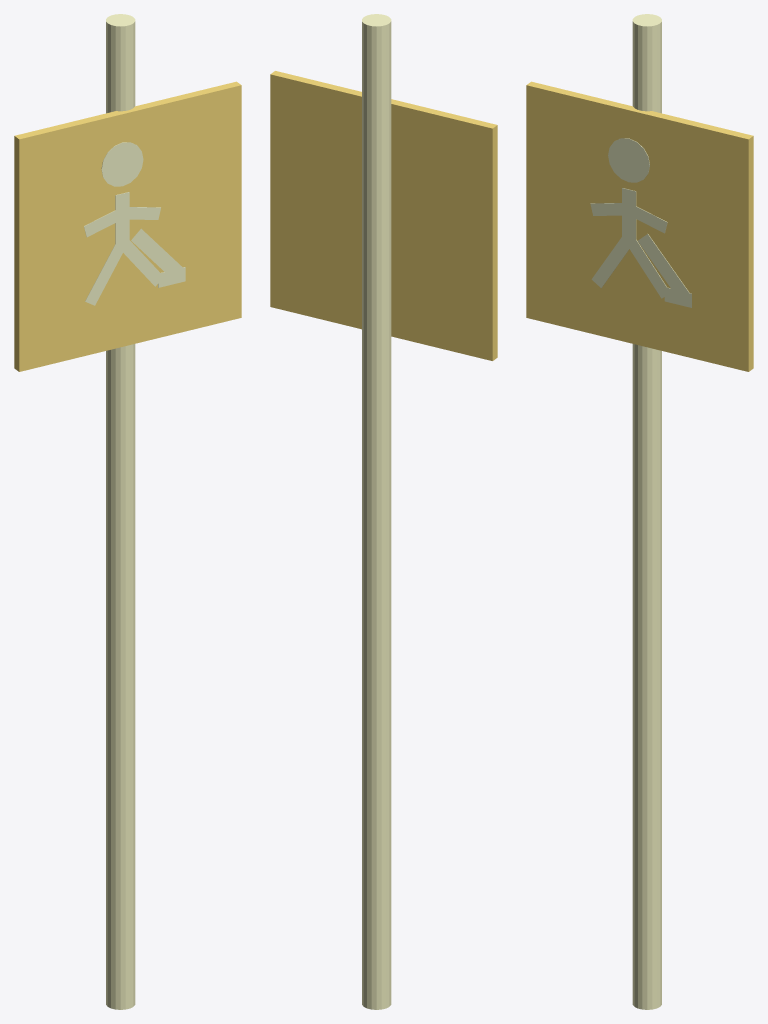
The model's file is sign_construction_warning.glb.
3 renders of one model, left to right at view 1: azimuth 30°, elevation 25°; view 2: azimuth 150°, elevation 25°; view 3: azimuth 330°, elevation 25°, orthographic.
Parts seen in each view (by area): view 1: plate_base_00, pole, layer_1_00, layer_1_06, layer_1_04, layer_1_01, layer_1_05; view 2: plate_base_00, pole; view 3: plate_base_00, pole, layer_1_00, layer_1_06, layer_1_04, layer_1_05, layer_1_01.
Part boxes in pixels (x1=…): plate_base_00: x1=14, y1=81, x2=241, y2=371; pole: x1=106, y1=14, x2=135, y2=1009; layer_1_00: x1=101, y1=142, x2=143, y2=186; layer_1_06: x1=131, y1=228, x2=184, y2=280; layer_1_04: x1=85, y1=240, x2=126, y2=305; layer_1_01: x1=115, y1=192, x2=129, y2=243; layer_1_05: x1=119, y1=238, x2=163, y2=286; plate_base_00: x1=270, y1=71, x2=497, y2=360; pole: x1=362, y1=14, x2=391, y2=1009; plate_base_00: x1=526, y1=81, x2=753, y2=371; pole: x1=632, y1=14, x2=661, y2=1009; layer_1_00: x1=608, y1=138, x2=649, y2=182; layer_1_06: x1=638, y1=234, x2=690, y2=302; layer_1_04: x1=591, y1=236, x2=633, y2=288; layer_1_05: x1=625, y1=237, x2=670, y2=298; layer_1_01: x1=622, y1=188, x2=636, y2=239.
Size of the model in its own units: 0.5204 by 2.2 by 0.071.
